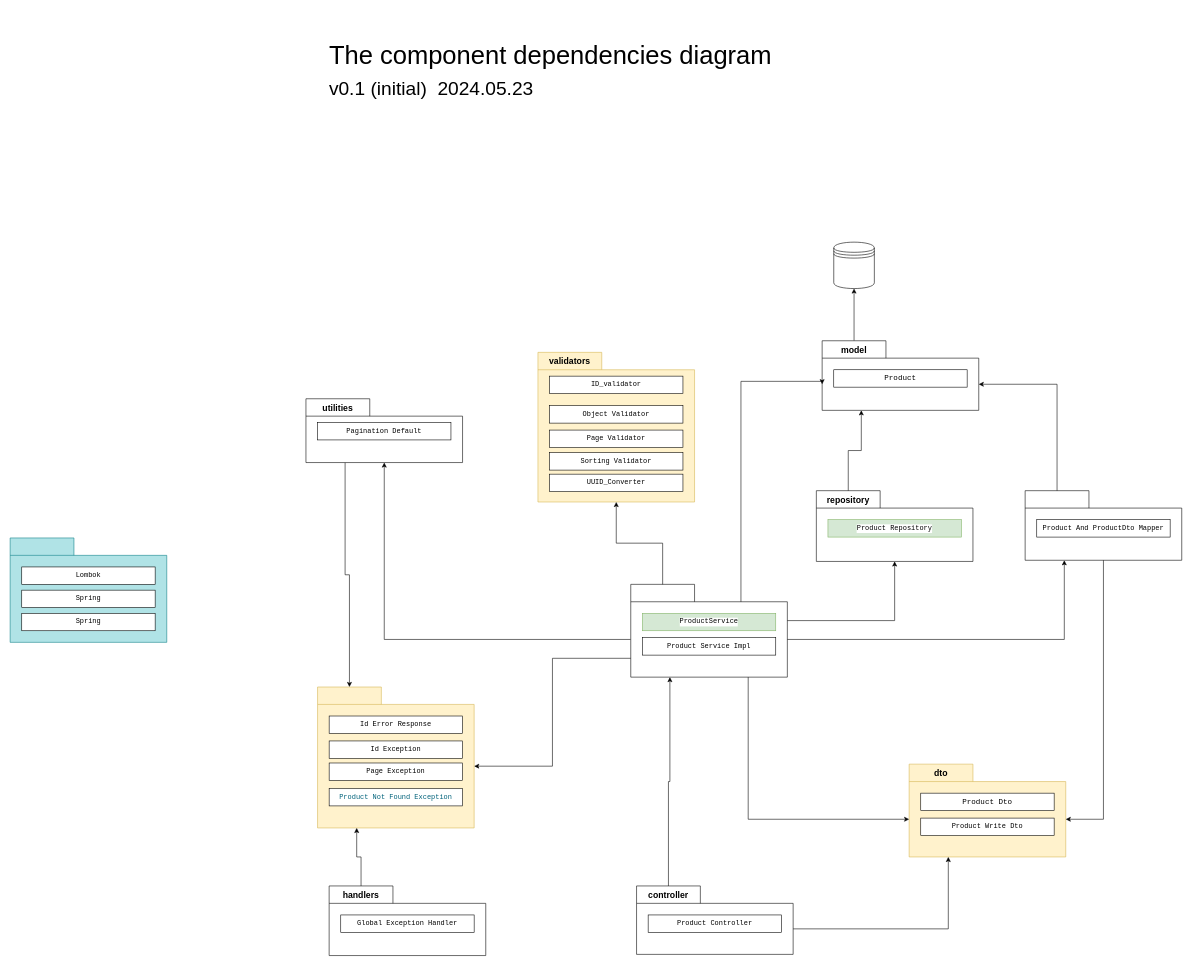
This 1192x966 diagram has some shape labels left out. The box of each missing label's shape, as (x1, y1, x2, y2) in pixels:
exceptions: (317, 686, 474, 828)
external library: (10, 537, 167, 642)
mappers: (1025, 490, 1182, 560)
service: (630, 584, 787, 677)
